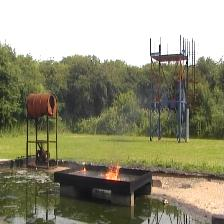fire: (102, 164, 120, 180)
